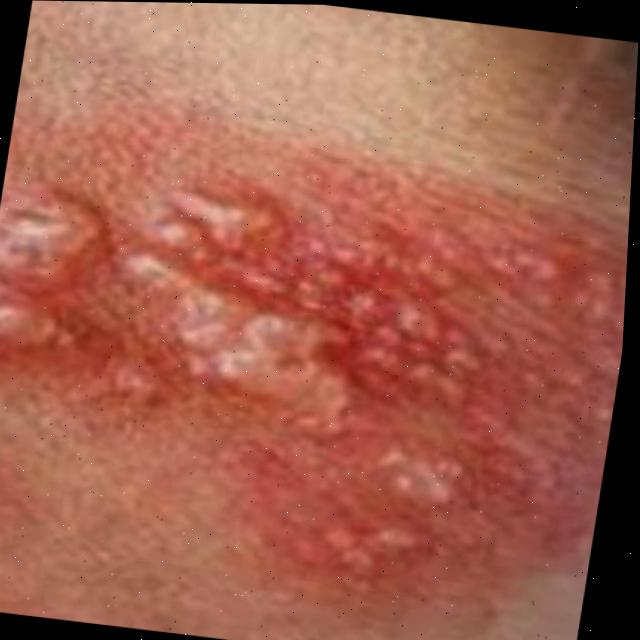Shingles: (0, 125, 628, 600)
